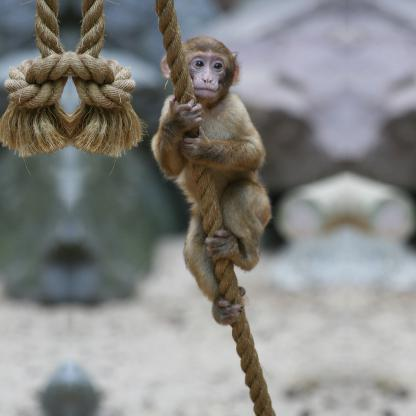Monkey: (146, 35, 272, 366)
